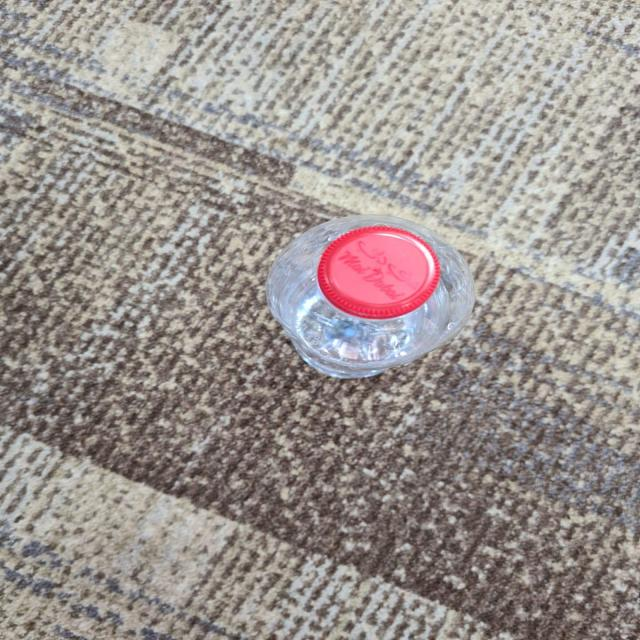bottle: (250, 212, 488, 383)
